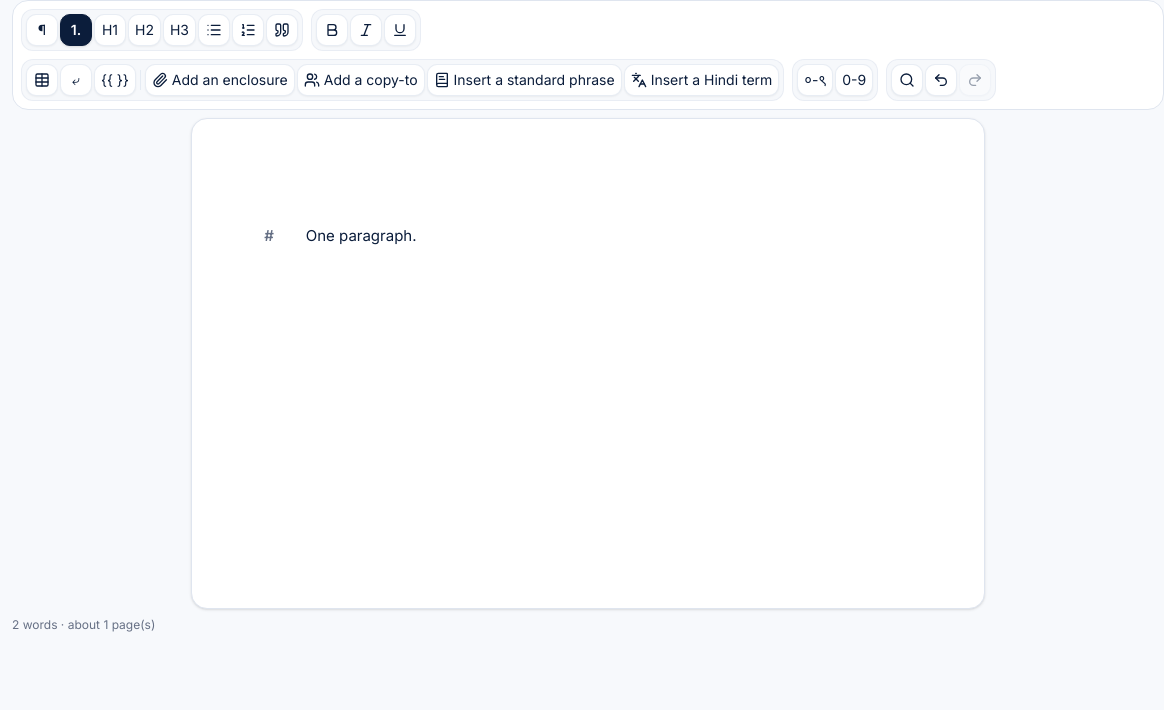
Test: the editor, in the DOM › offers a chip for every field the form defines
Click the button named "insert a blank": (115, 80) x1=94 y1=64 x2=136 y2=96
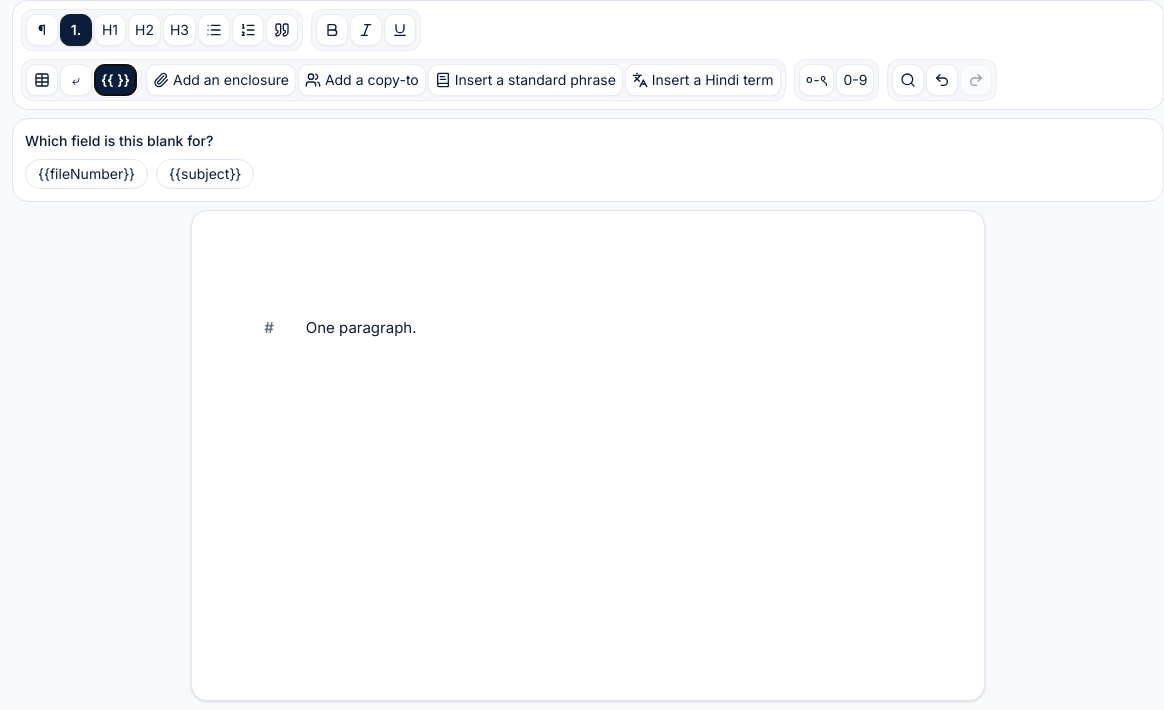
Now the button "{{fileNumber}}" is shown, box x1=25 y1=159 x2=148 y2=189
Now the button "{{subject}}" is shown, box x1=156 y1=159 x2=254 y2=189
